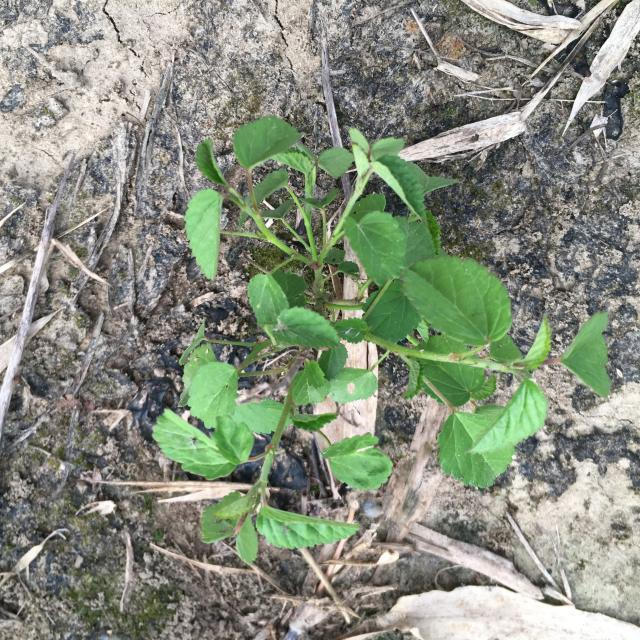PricklySida: (152, 114, 613, 564)
